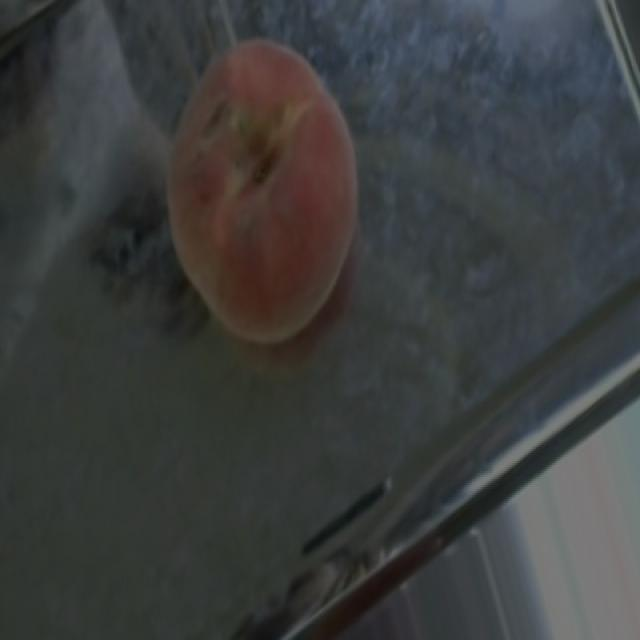Fruit: (121, 8, 396, 368)
